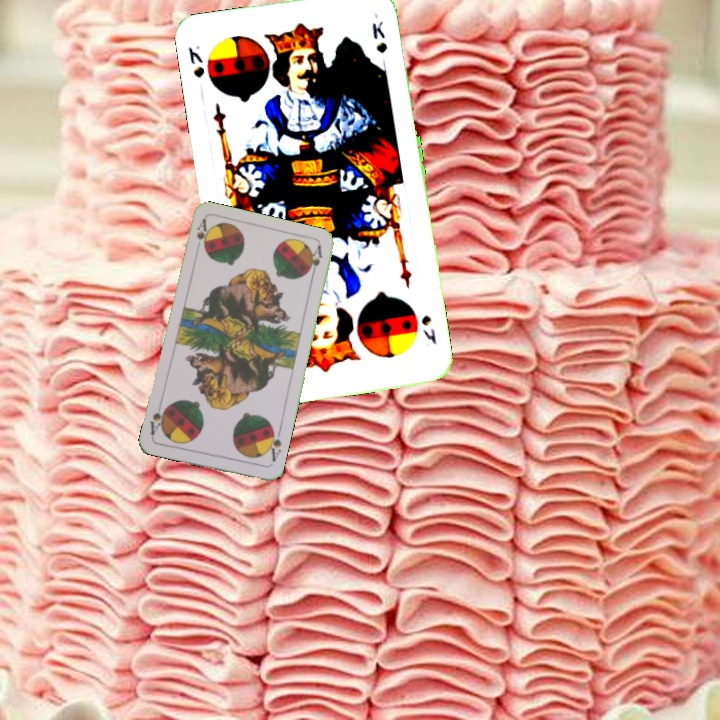SA: (191, 215, 212, 255), (263, 425, 284, 464)
SK: (184, 42, 207, 80), (417, 311, 439, 347)
